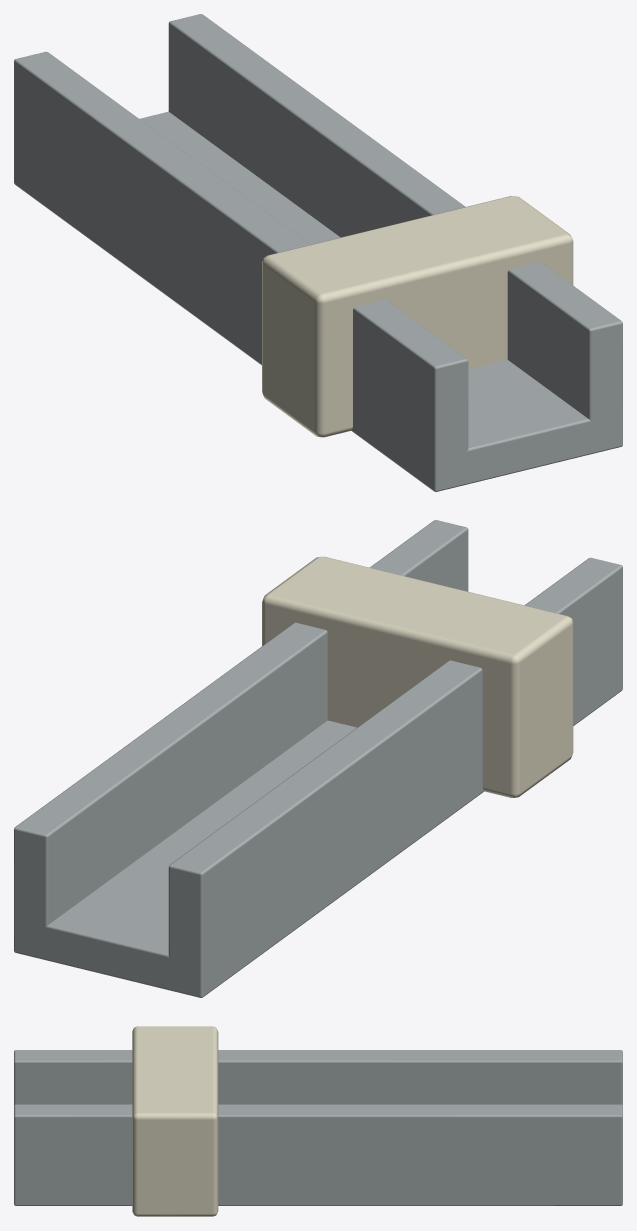
The model's file is field-medicine-and-recovery-finger-splint-9ac72cb3__3044.glb.
The picture shows the model from 3 angles, top to bottom: view 1: azimuth 30°, elevation 25°; view 2: azimuth 150°, elevation 25°; view 3: azimuth 270°, elevation 25°; orthographic projection. The views are drawn at different scales.
Parts seen in each view (by area): view 1: finger-splint; view 2: finger-splint; view 3: finger-splint.
Boxes of the visible parts, x1,y1,x2,y2 form: finger-splint: (14,14,622,491); finger-splint: (14,520,622,997); finger-splint: (14,1026,622,1216).
Bounding box in the file's own units: 0.03 × 0.016 × 0.085.
